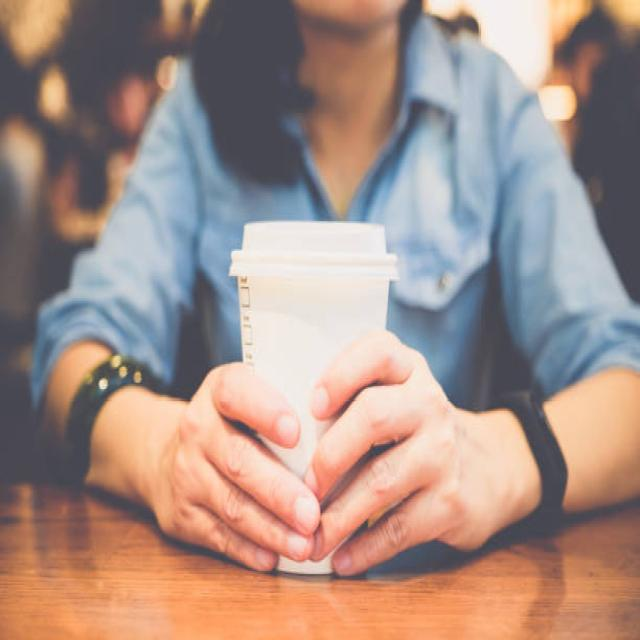cup: (225, 219, 400, 579)
